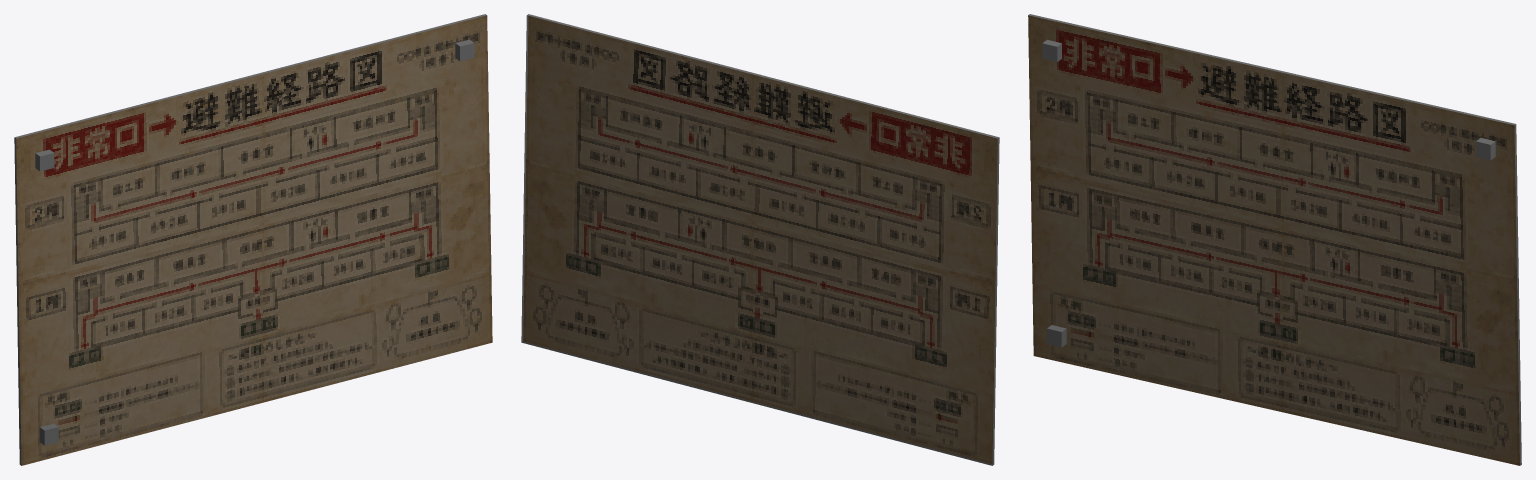
File: prop_poster-hinan-0.glb
The picture shows the model from 3 angles, left to right: view 1: azimuth 30°, elevation 25°; view 2: azimuth 150°, elevation 25°; view 3: azimuth 330°, elevation 25°; orthographic projection. The views are drawn at different scales.
Visible parts, largest first — view 1: prop_poster-hinan-0; view 2: prop_poster-hinan-0; view 3: prop_poster-hinan-0.
Boxes of the visible parts, x1=… form: prop_poster-hinan-0: x1=14, y1=14, x2=492, y2=465; prop_poster-hinan-0: x1=521, y1=14, x2=999, y2=465; prop_poster-hinan-0: x1=1028, y1=14, x2=1521, y2=465.
Size of the model in its own units: 0.466 by 0.315 by 0.0115.
Materials: 2 (2 with a texture image).
